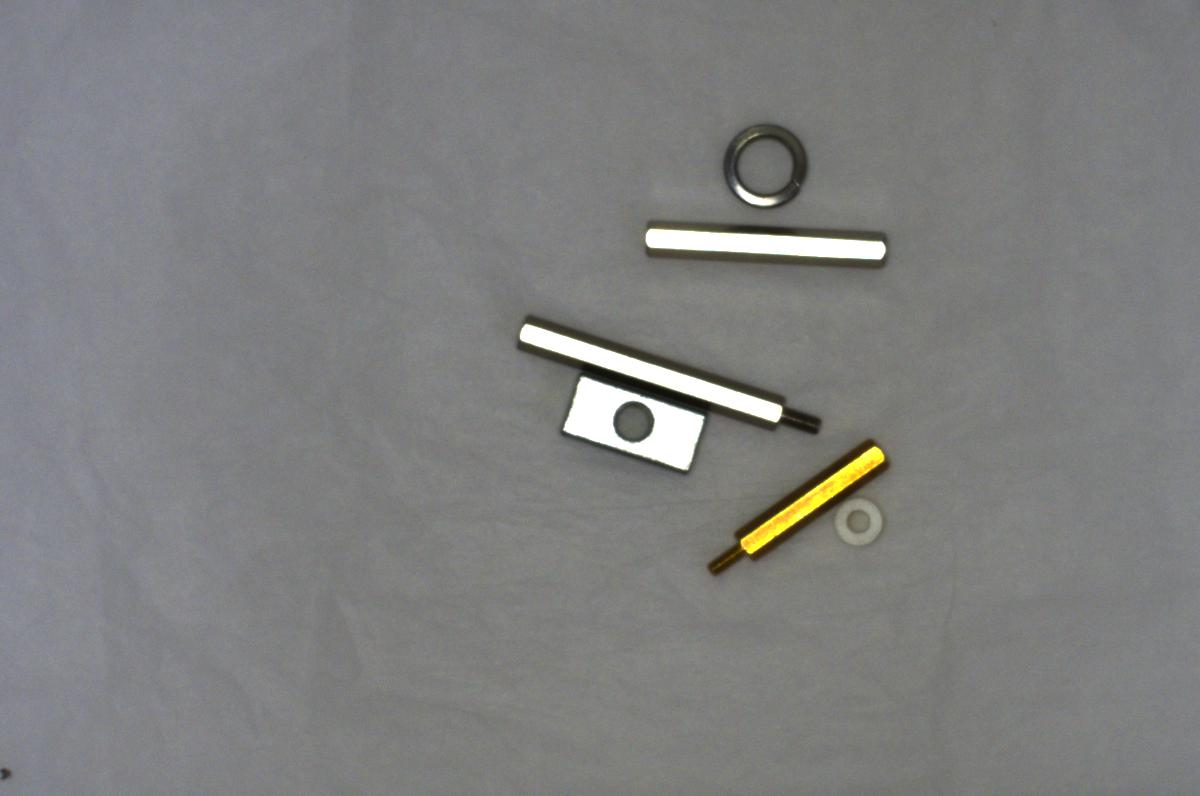Double hexagonal column: (638, 215, 894, 280)
Hexagon pillar: (700, 437, 896, 577)
Hexagonal steel column: (503, 315, 835, 439)
Plastic cushion pillar: (824, 491, 891, 553)
Rectangular nut: (556, 381, 706, 478)
Spring washer: (717, 115, 814, 209)
